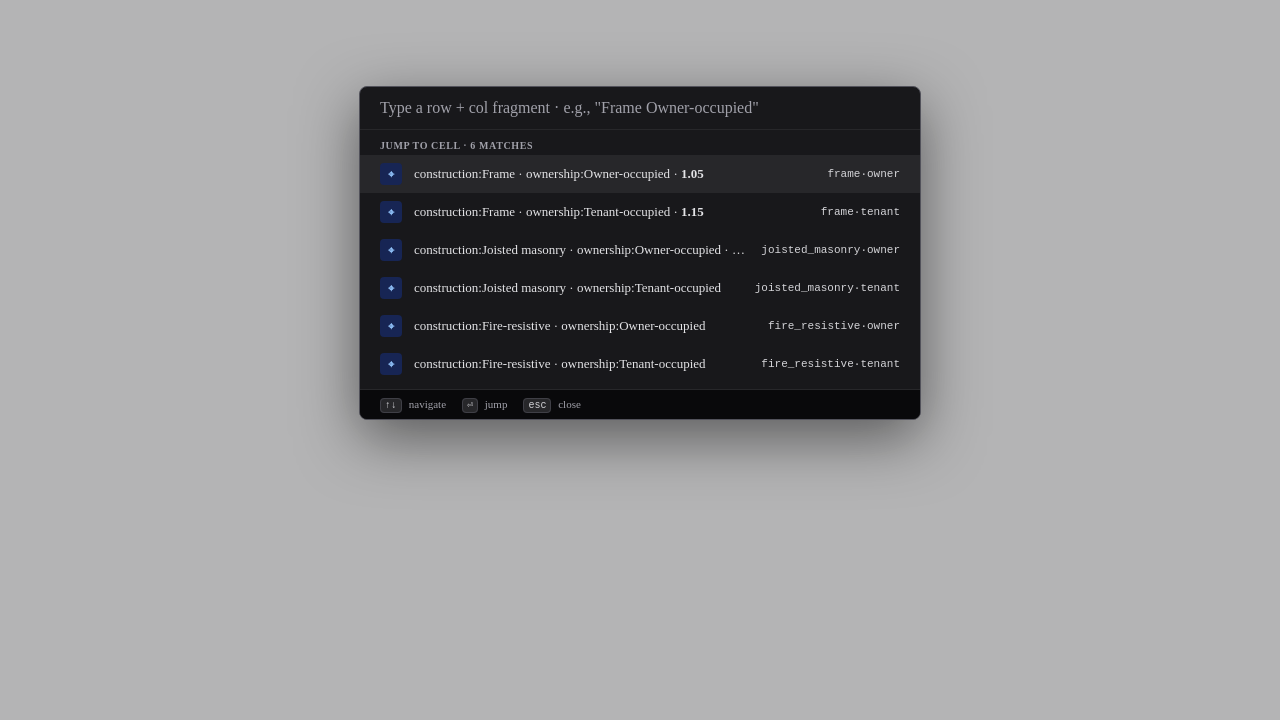
<FactorTableCmdK> matches › shows the empty state when nothing matches
Type "xyz_unmatchable" into the field with test id "rater-ft-cmdk-input".
click(660, 109); type("xyz_unmatchable")  # box x1=360 y1=87 x2=960 y2=130
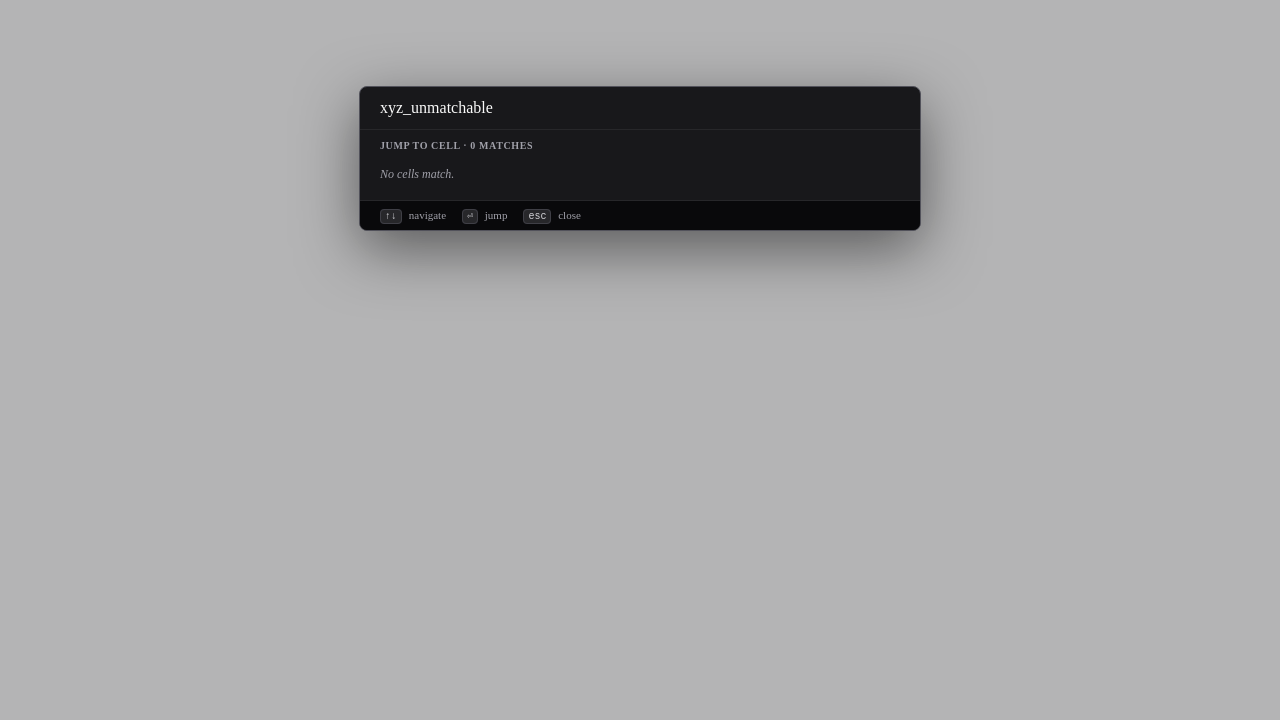
Result: the text "No cells match." is shown at x1=380 y1=167 x2=454 y2=181
